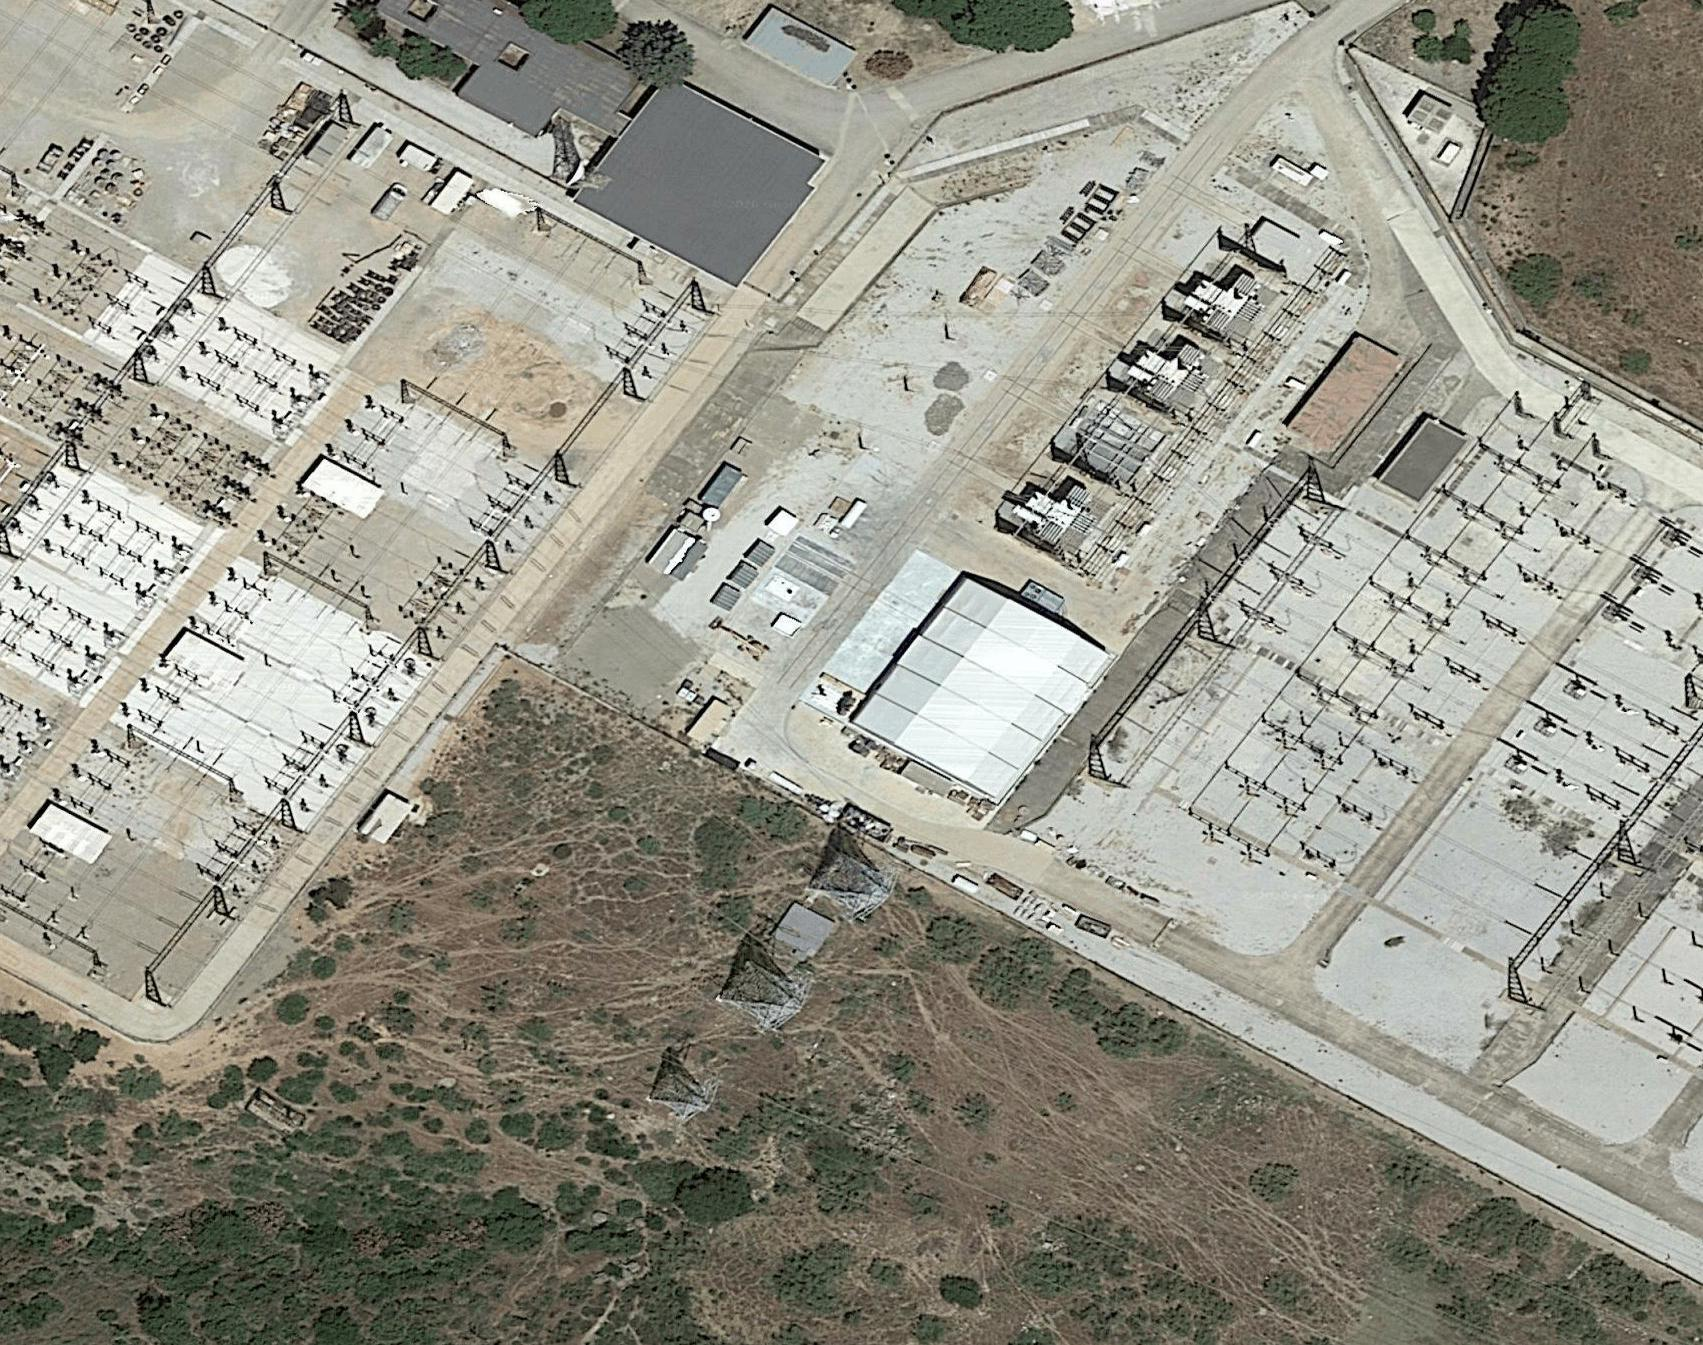substation: (1, 1, 730, 1034), (975, 199, 1703, 1071)
